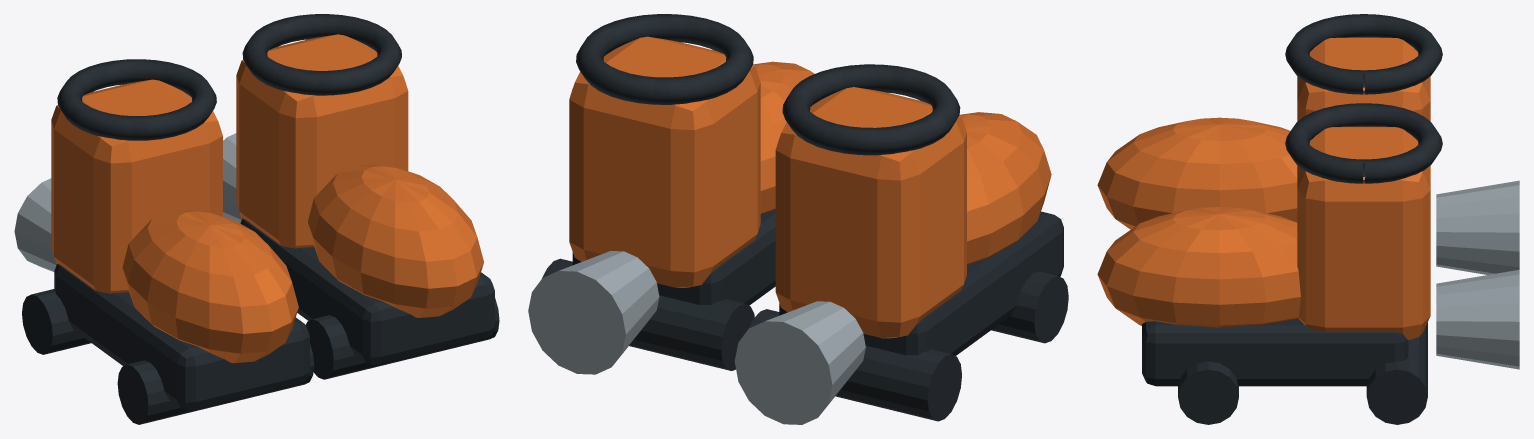
Rendered from rocket-skates.glb.
3 views of the same model, side by side, from view 1: azimuth 30°, elevation 25°; view 2: azimuth 150°, elevation 25°; view 3: azimuth 270°, elevation 25° (orthographic). The views are drawn at different scales.
Visible parts, largest first — view 1: boot sole; view 2: boot sole; view 3: boot sole.
Part boxes in pixels (box(x1,y1,x2,y2)): boot sole: box(14, 14, 499, 424); boot sole: box(528, 14, 1068, 424); boot sole: box(1097, 14, 1519, 424).
Bounding box in the file's own units: 0.72 × 0.4991 × 0.76.
